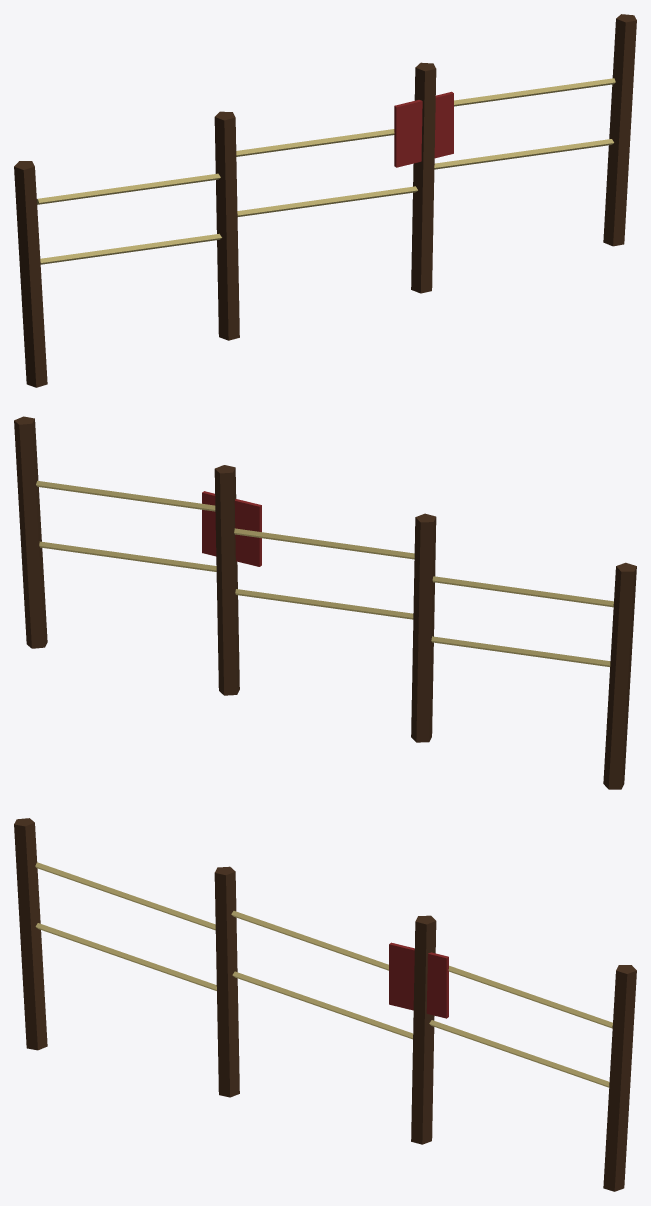
File: soegol_rope_fence.glb
3 renders of one model, top to bottom at view 1: azimuth 30°, elevation 25°; view 2: azimuth 150°, elevation 25°; view 3: azimuth 330°, elevation 25°, orthographic.
Parts seen in each view (by area): view 1: soegol_rope_fence; view 2: soegol_rope_fence; view 3: soegol_rope_fence.
Part boxes in pixels (left/top/right/bottom): soegol_rope_fence: left=14, top=14, right=636, bottom=387; soegol_rope_fence: left=14, top=416, right=636, bottom=789; soegol_rope_fence: left=14, top=818, right=636, bottom=1191.
Bounding box in the file's own units: 3.23 × 1.1 × 0.0905.
